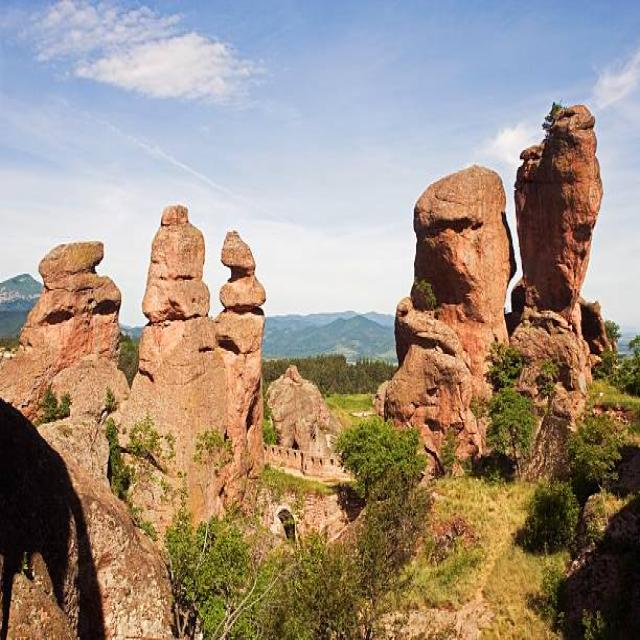Sedimentary: (1, 224, 131, 639), (372, 139, 512, 481), (141, 188, 267, 556), (507, 93, 618, 482)
